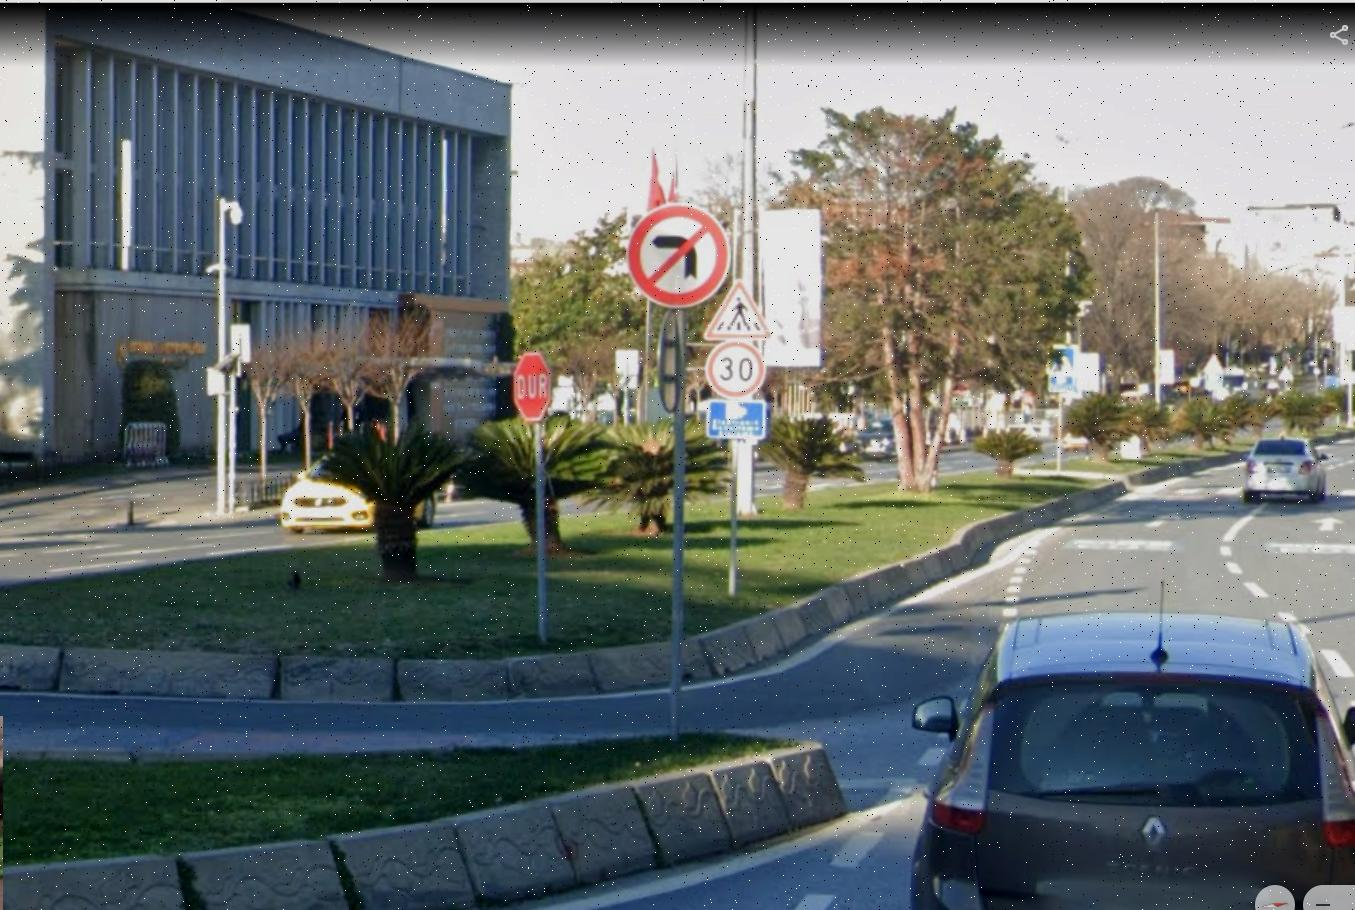leftturnsareforbidden: (630, 204, 731, 305)
stop: (511, 352, 558, 425)
